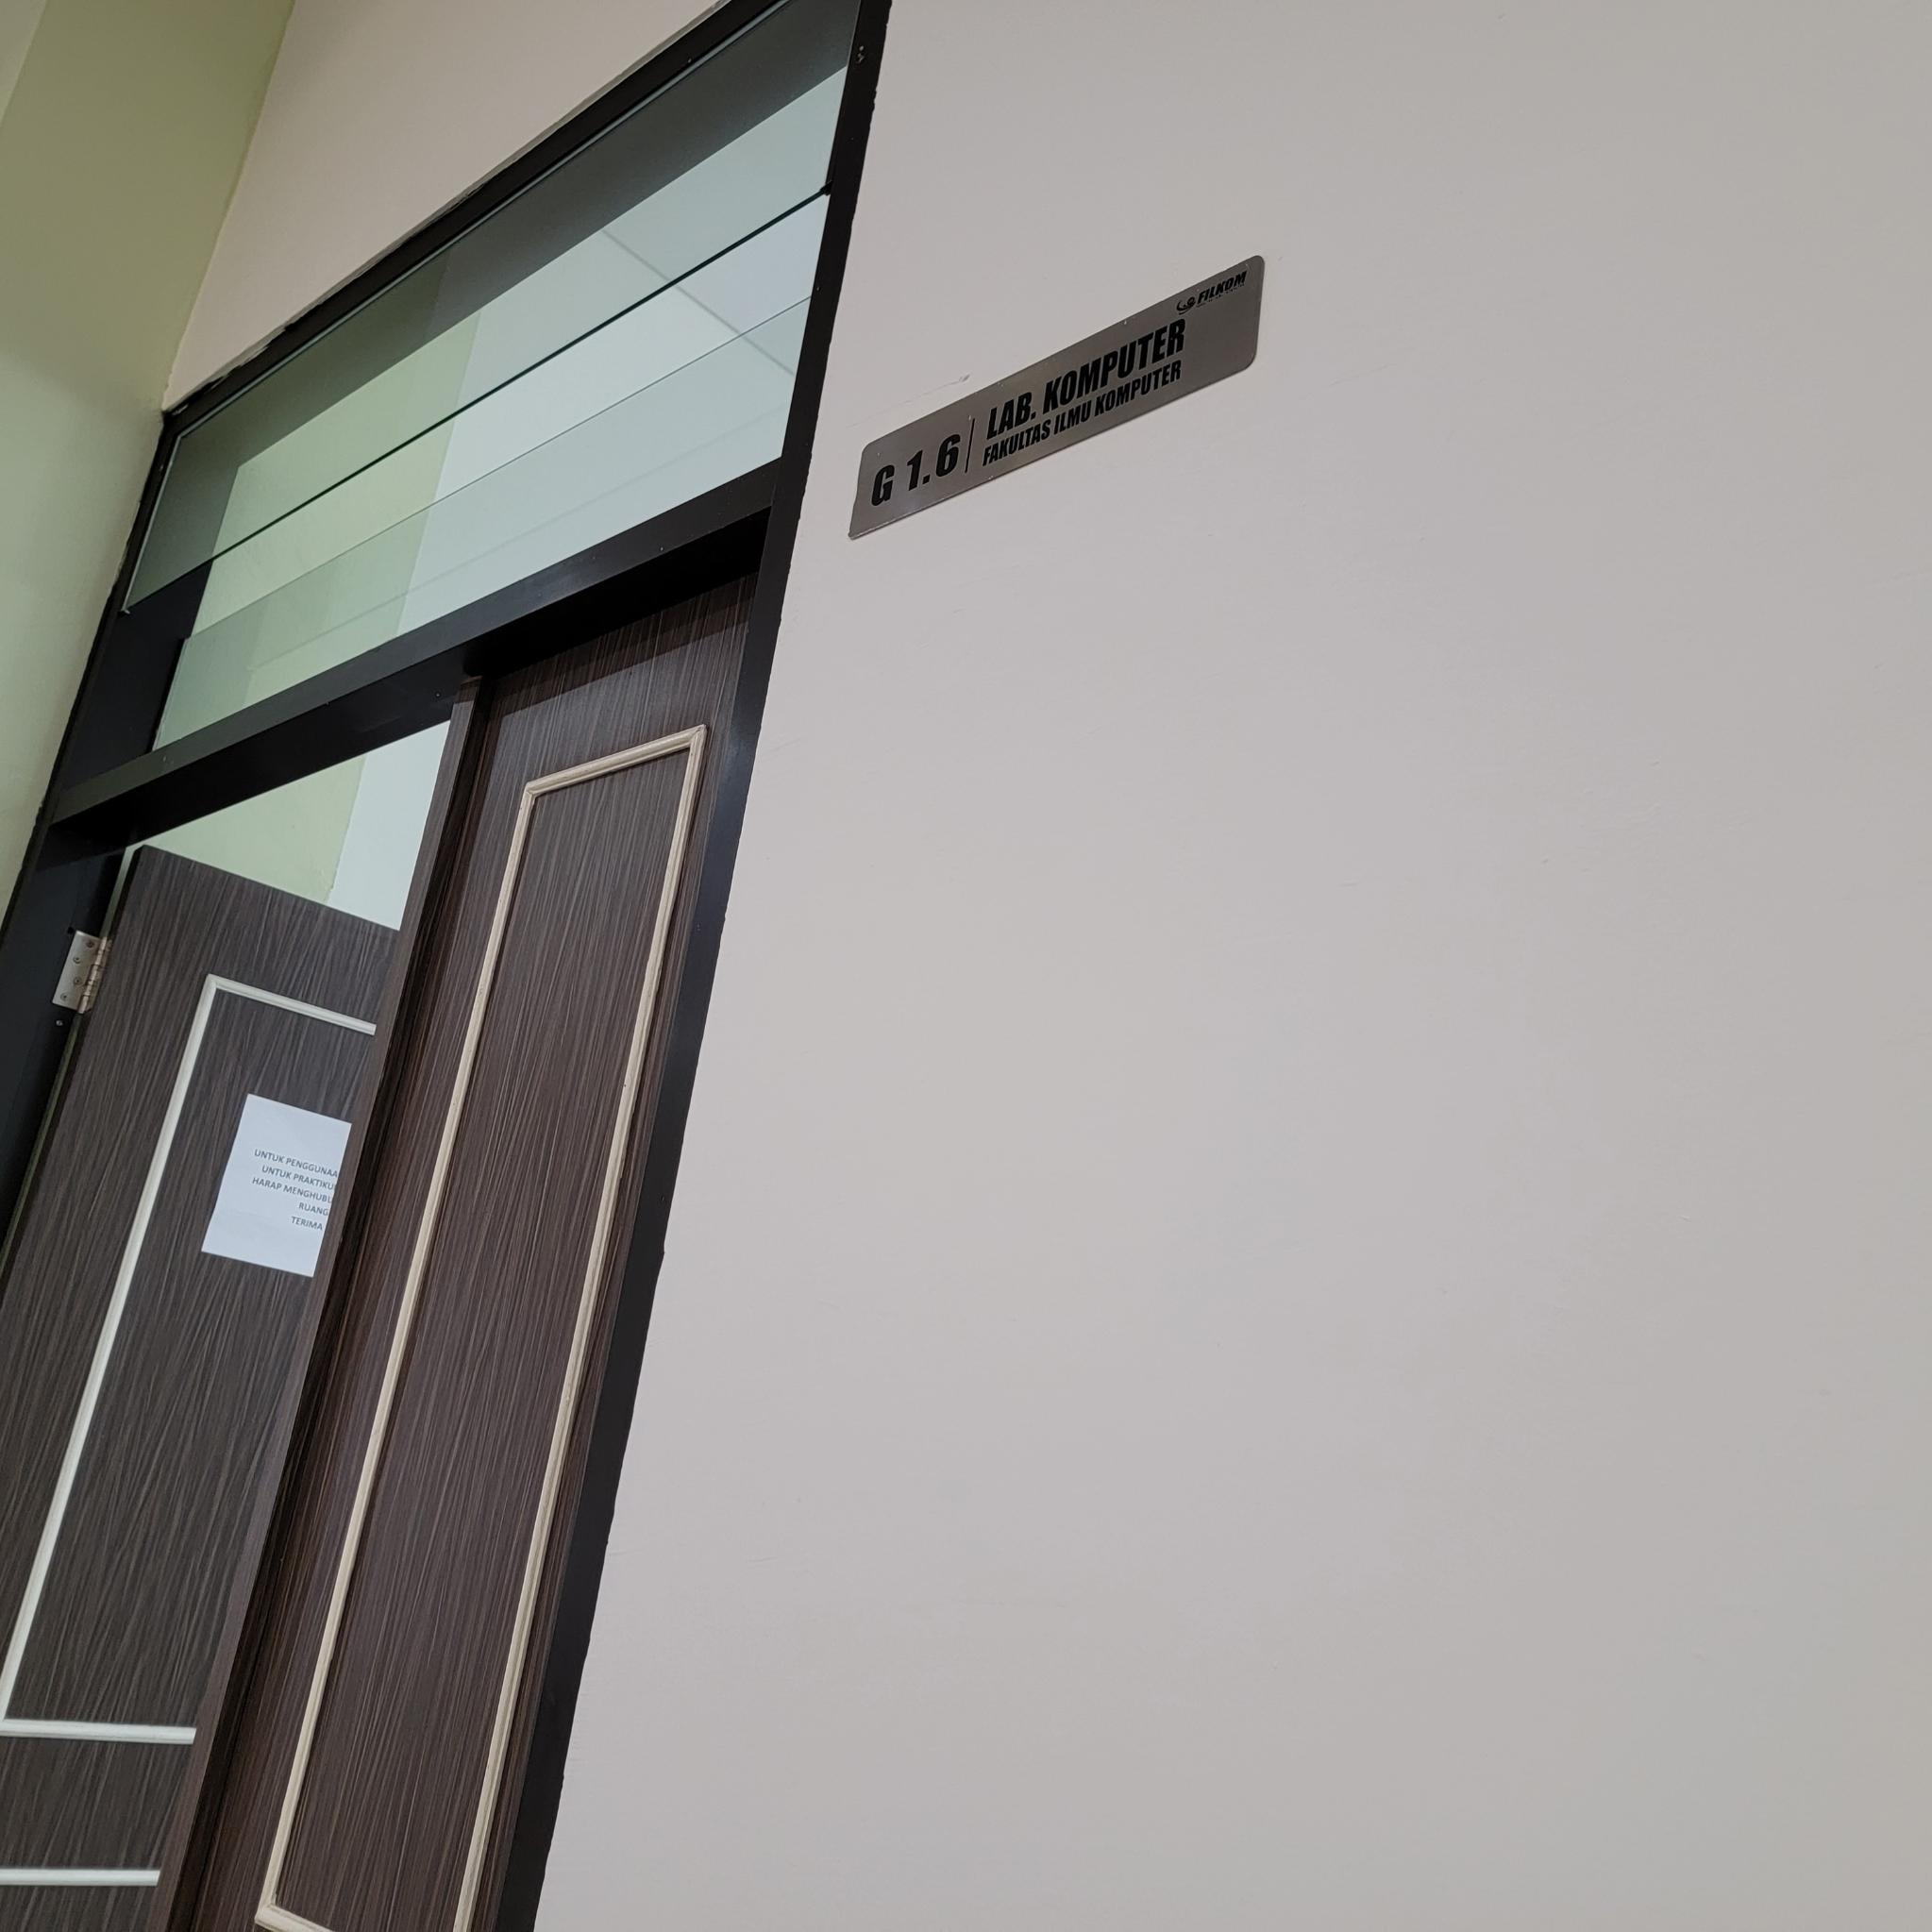plate: (847, 251, 1267, 541)
